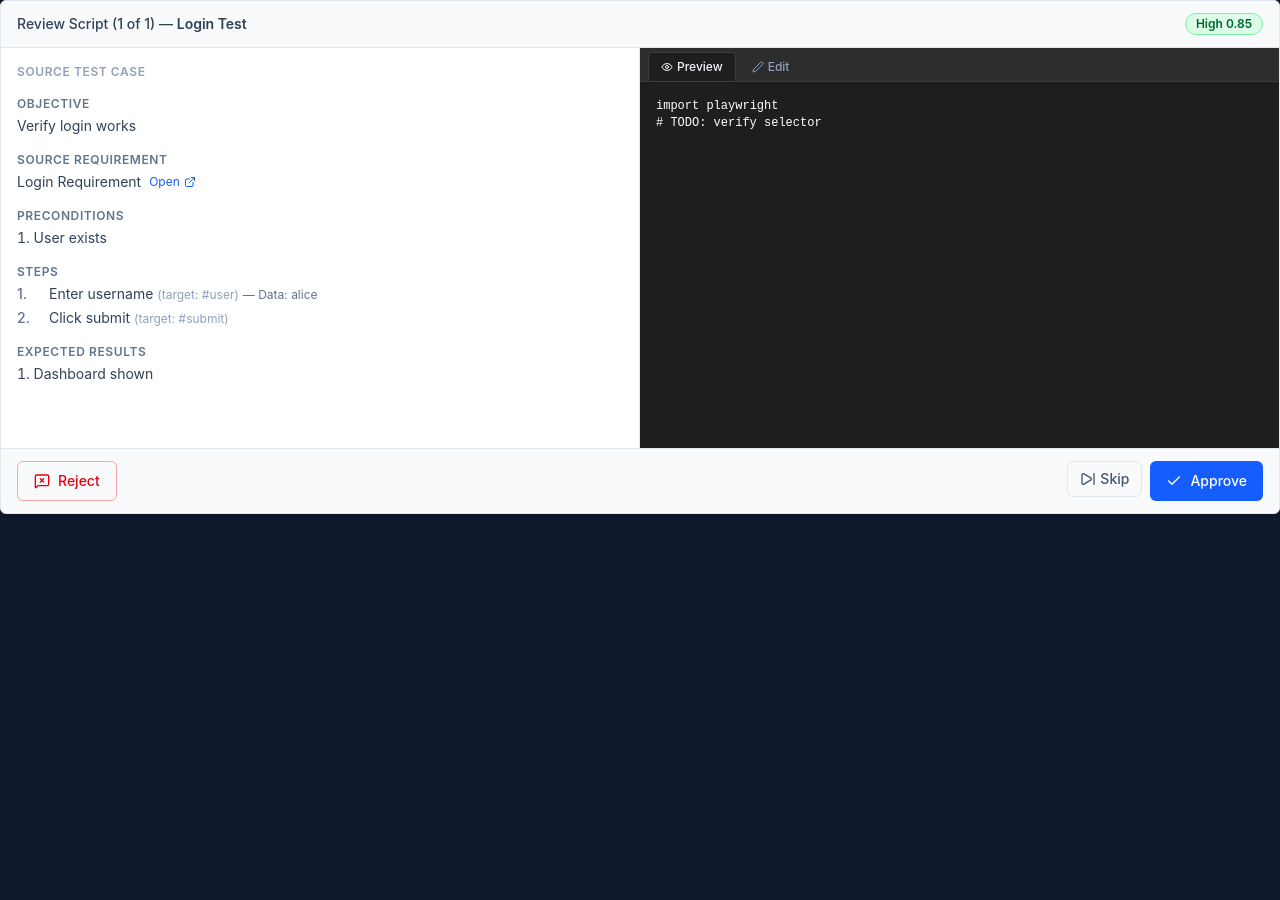
SarahScriptReviewPanel › Approve / Skip / Reject callbacks › Submit Feedback is disabled when textarea is empty
Click the button "Reject" at (67, 481), box x1=17 y1=461 x2=117 y2=501
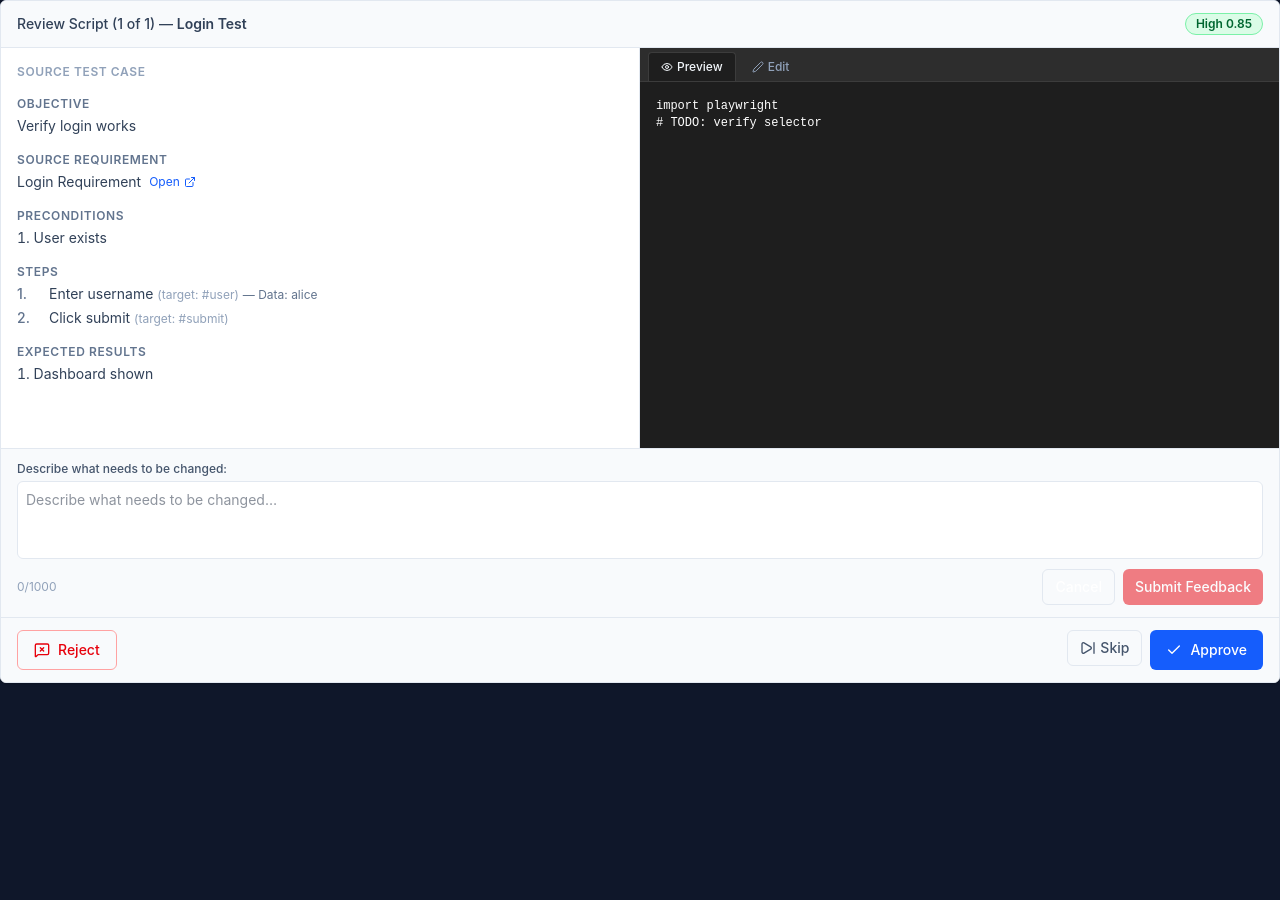
Result: the button "Submit Feedback" is disabled at x1=1123 y1=569 x2=1263 y2=605
